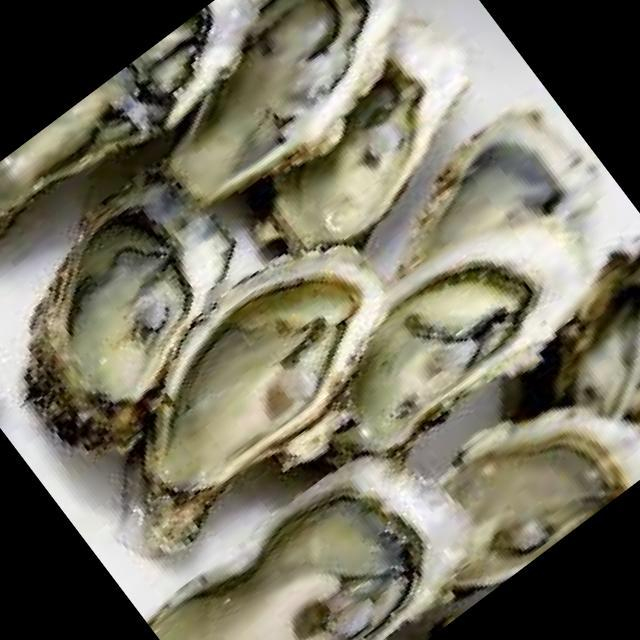Oyster-Open: (146, 248, 382, 539), (26, 168, 234, 451), (152, 459, 471, 640), (349, 224, 584, 452), (169, 0, 399, 207), (272, 24, 465, 248), (441, 409, 640, 590), (402, 110, 594, 269), (552, 254, 640, 423)
